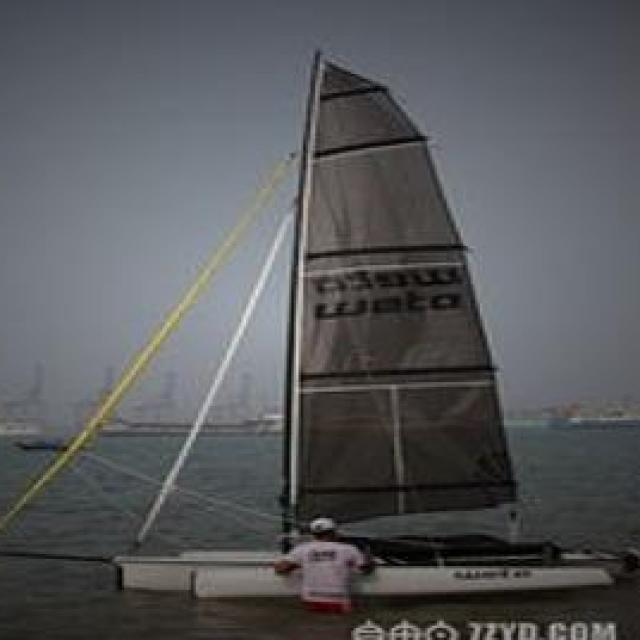sailboat: (0, 50, 628, 604)
